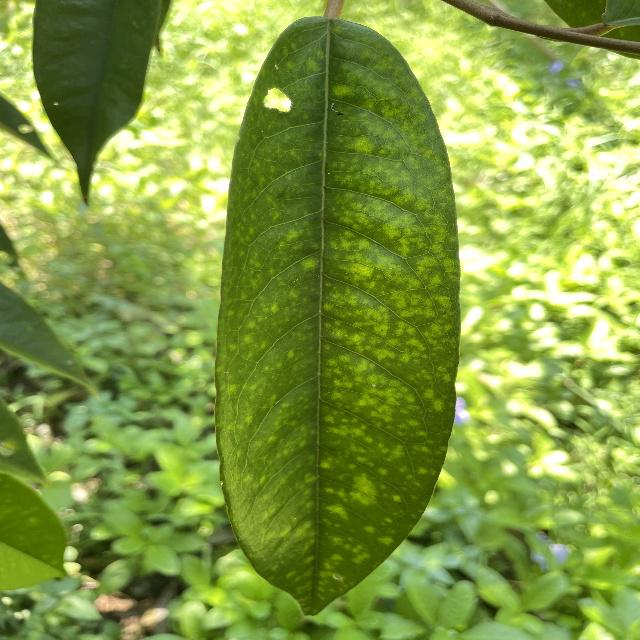Leaf Spot: (207, 7, 473, 617)
